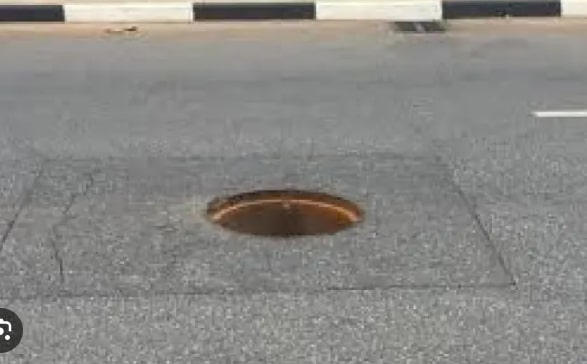open_manhole: (213, 184, 361, 246)
